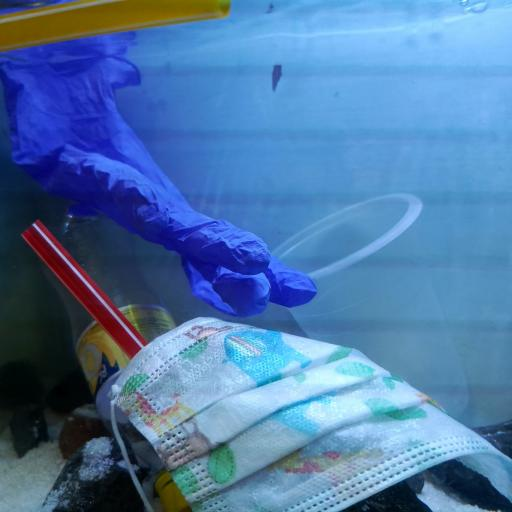bottle_cap: (157, 483, 188, 512)
glove: (0, 47, 318, 318)
mask: (94, 318, 512, 512)
plastic_bottle: (42, 211, 192, 512)
plastic_cup: (268, 191, 478, 422)
plastic_straw: (21, 220, 144, 358), (0, 0, 231, 49)
